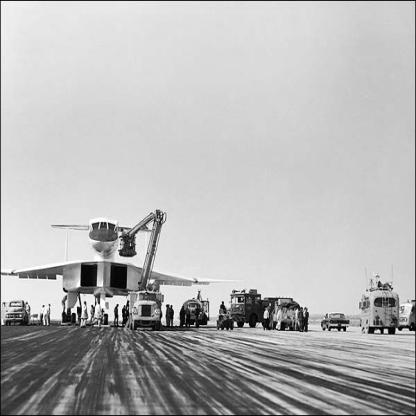XB70: (2, 217, 246, 327)
